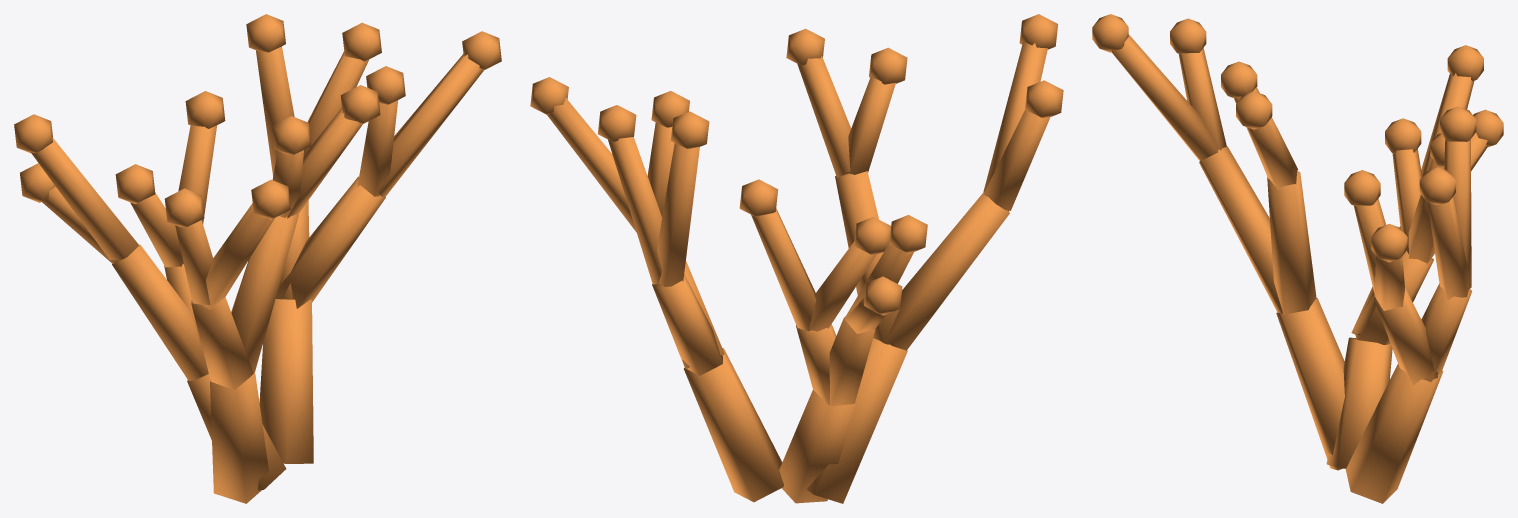
File: Coral_Orange.fbx
3 renders of one model, left to right at view 1: azimuth 30°, elevation 25°; view 2: azimuth 150°, elevation 25°; view 3: azimuth 270°, elevation 25°, orthographic. The views are drawn at different scales.
Parts seen in each view (by area): view 1: Coral_Orange.001; view 2: Coral_Orange.001; view 3: Coral_Orange.001.
Boxes of the visible parts, x1=… form: Coral_Orange.001: x1=14, y1=14, x2=501, y2=503; Coral_Orange.001: x1=530, y1=14, x2=1063, y2=503; Coral_Orange.001: x1=1092, y1=14, x2=1503, y2=503.
Size of the model in its own units: 0.8372 by 0.7777 by 0.7028.
